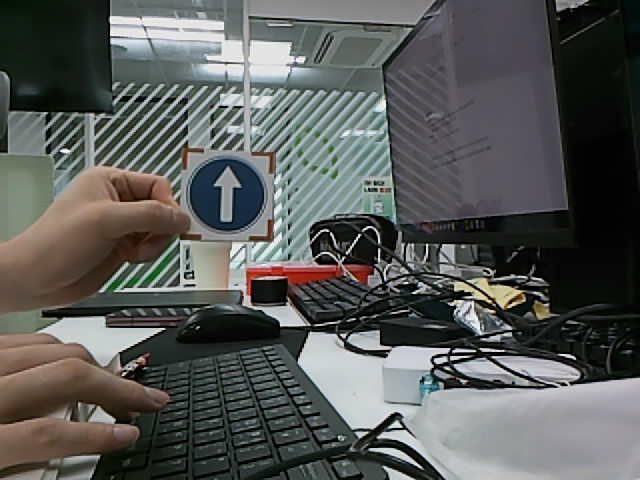go: (186, 156, 268, 234)
